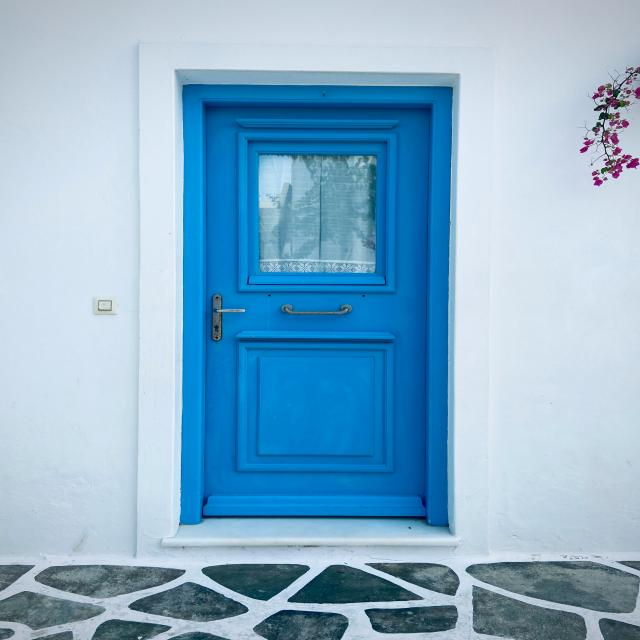door-handle: (215, 309, 245, 312)
